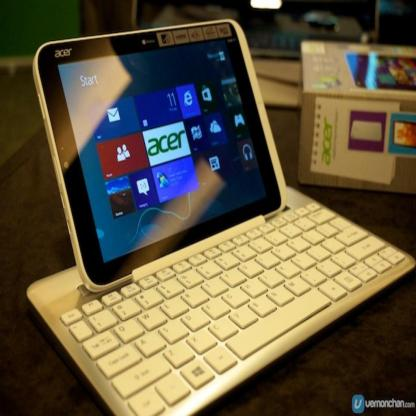board: (26, 16, 404, 412)
